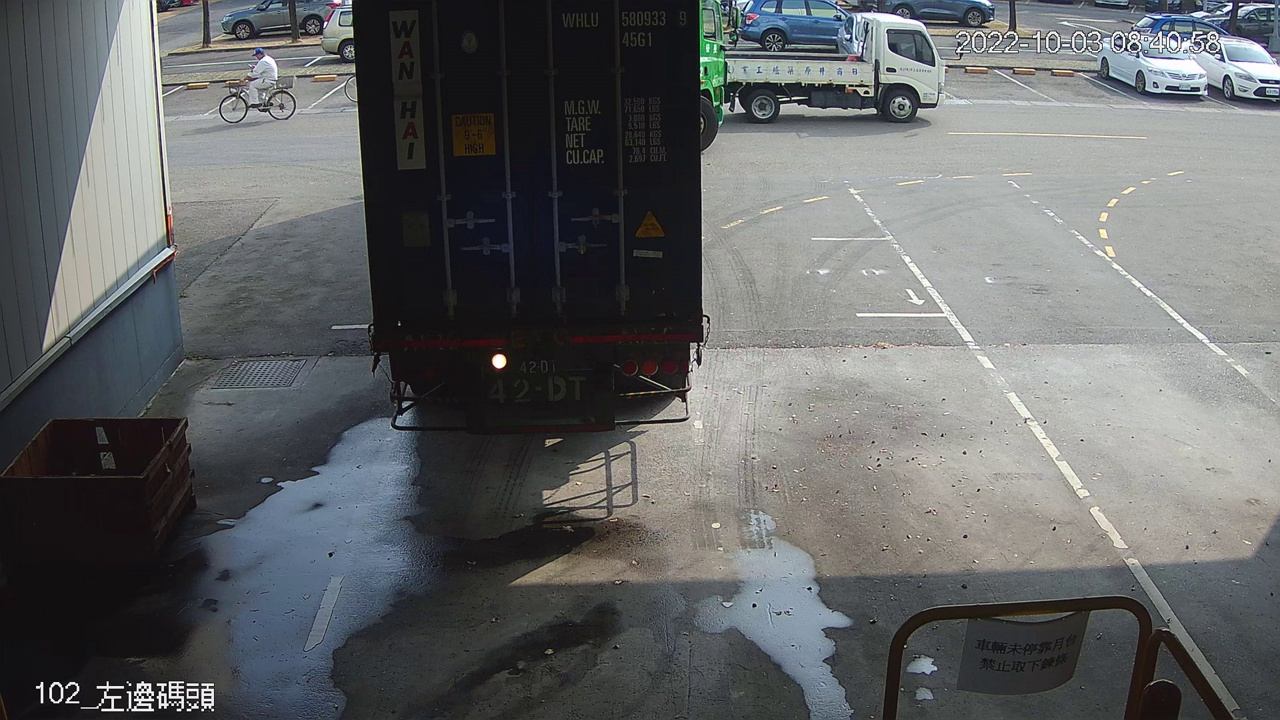container: (556, 5, 692, 53)
